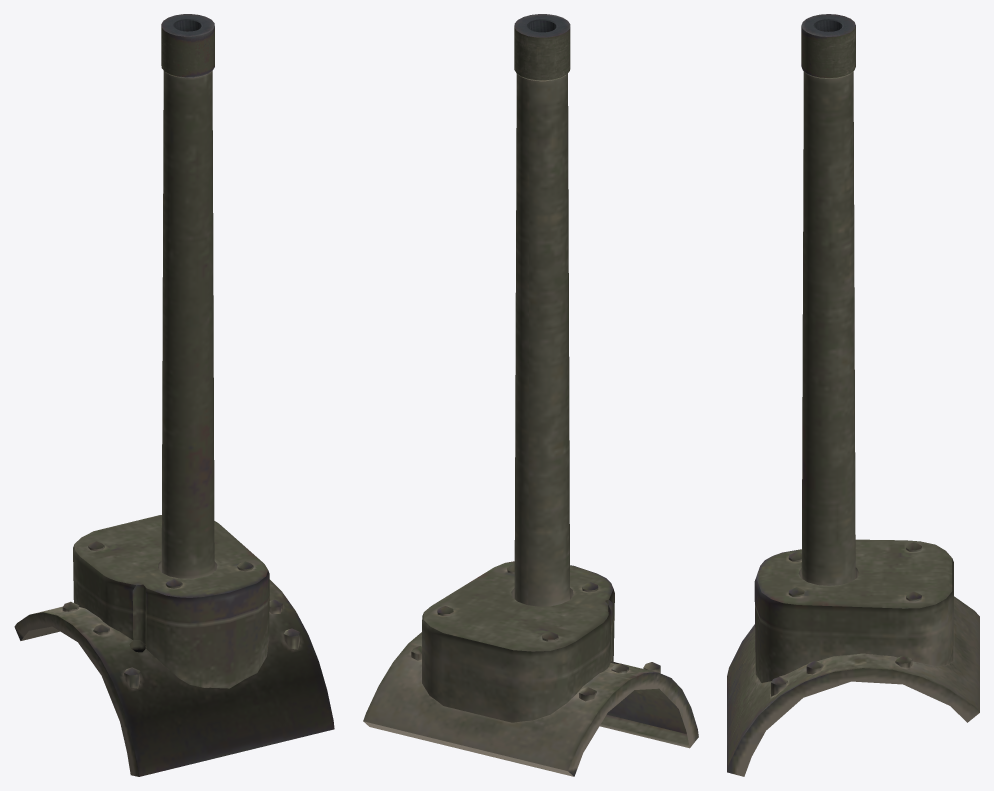
The model's file is Gun_01.glb.
3 renders of one model, left to right at view 1: azimuth 30°, elevation 25°; view 2: azimuth 150°, elevation 25°; view 3: azimuth 270°, elevation 25°, orthographic. The views are drawn at different scales.
Visible parts, largest first — view 1: set_0_group_0; view 2: set_0_group_0; view 3: set_0_group_0.
Boxes of the visible parts, x1,y1,x2,y2 form: set_0_group_0: (14,14,334,776); set_0_group_0: (363,14,698,776); set_0_group_0: (727,14,979,776).
Size of the model in its own units: 0.6424 by 2.18 by 0.7111.
Materials: 1 (1 with a texture image).
